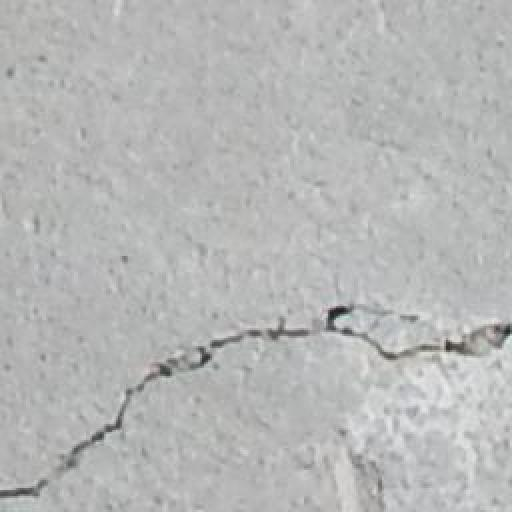spalling: (8, 293, 500, 512)
